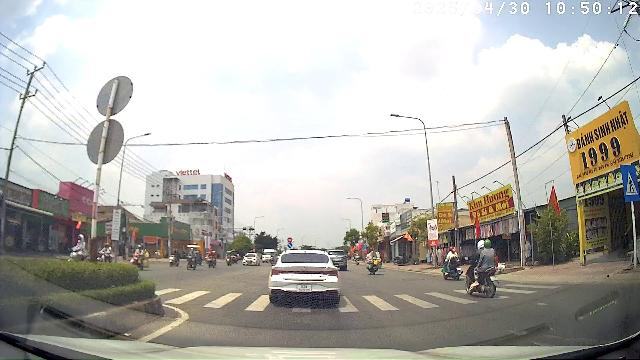102-cam-di-nguoc-chieu: (287, 237, 293, 242)
302a-huong-phai-di-vong-chuong-ngai-vat-1: (287, 243, 293, 248)
423a-duong-nguoi-di-bo-sang-ngang-1: (622, 165, 639, 200)
